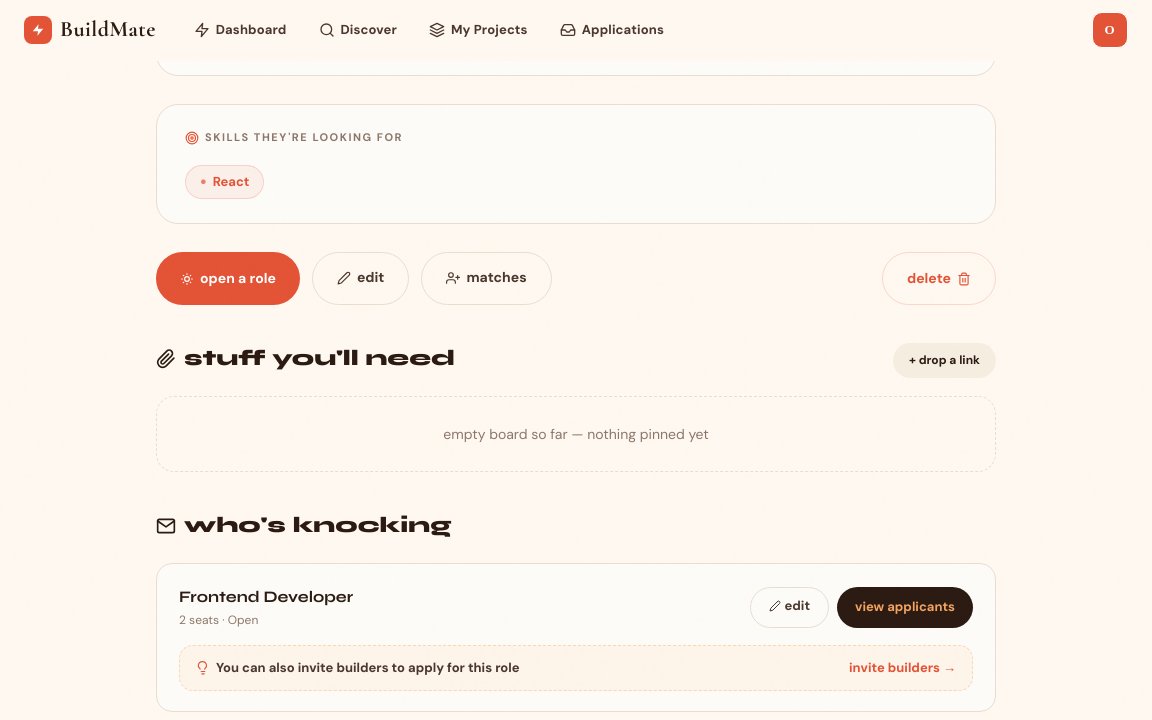
Resource Board › adds resource successfully
(page scrolled)
Click the button "+ drop a link" at [944, 360], box [893, 343, 996, 378]
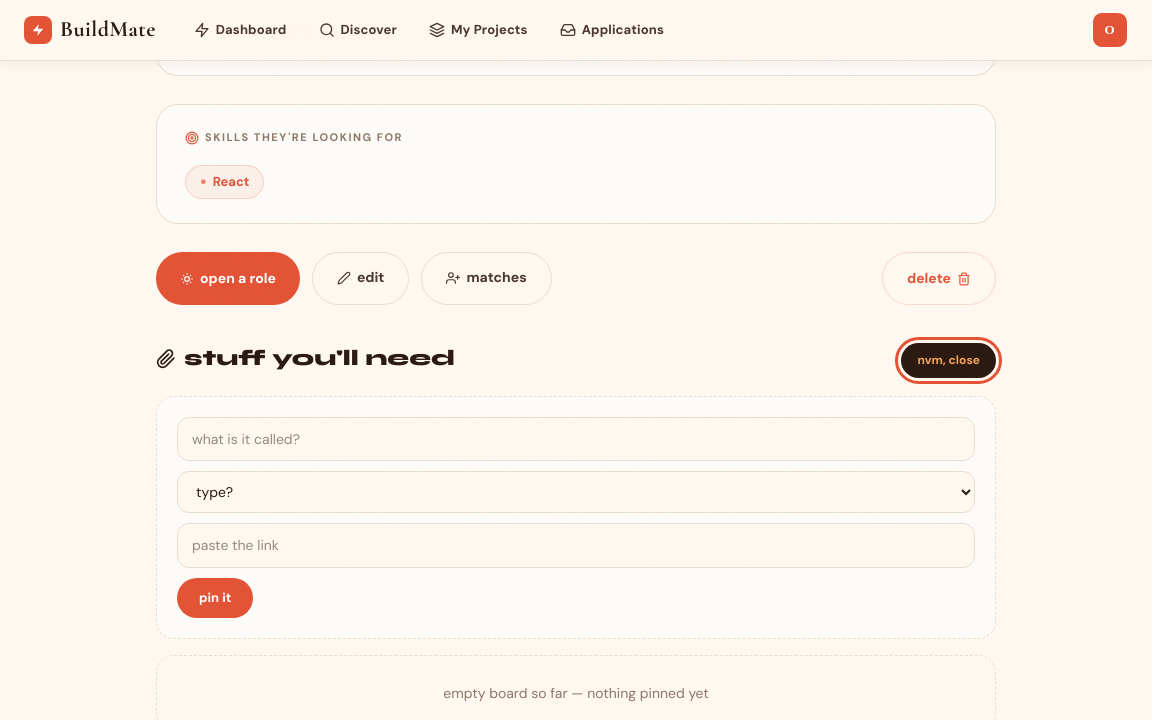
Type "API Docs" into the field with placeholder "what is it called?" at [576, 439], box [177, 417, 975, 461]
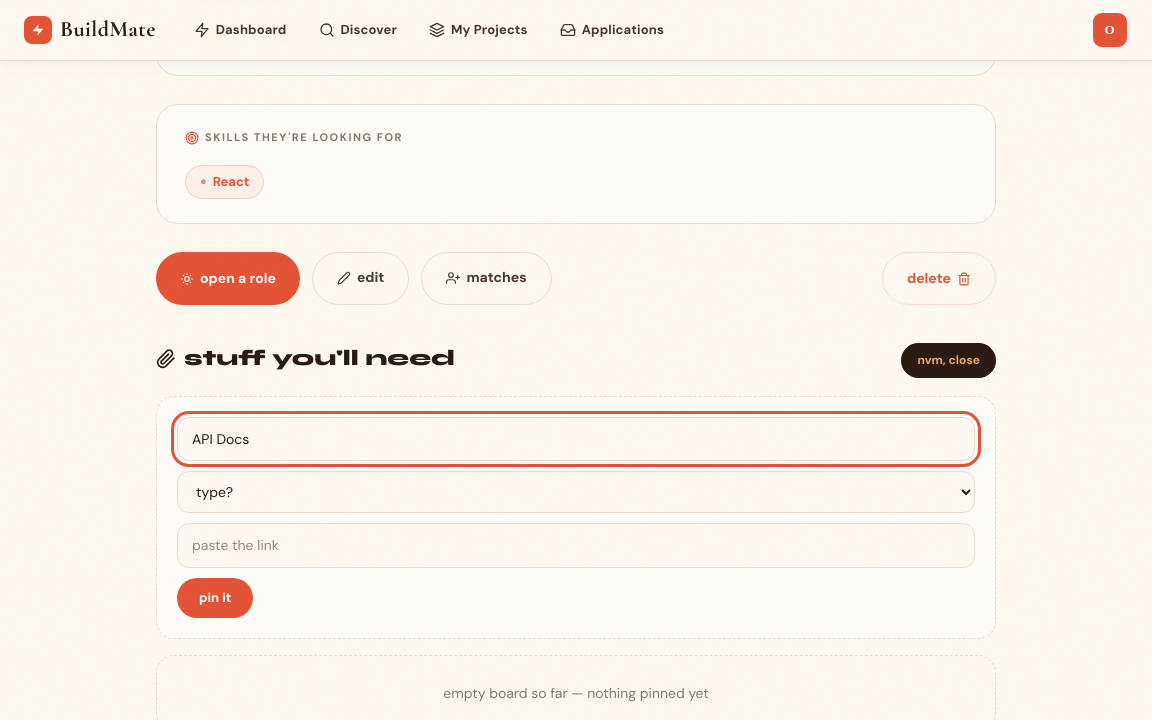
Select "Notion" in the dropdown at [576, 492], box [177, 471, 975, 513]
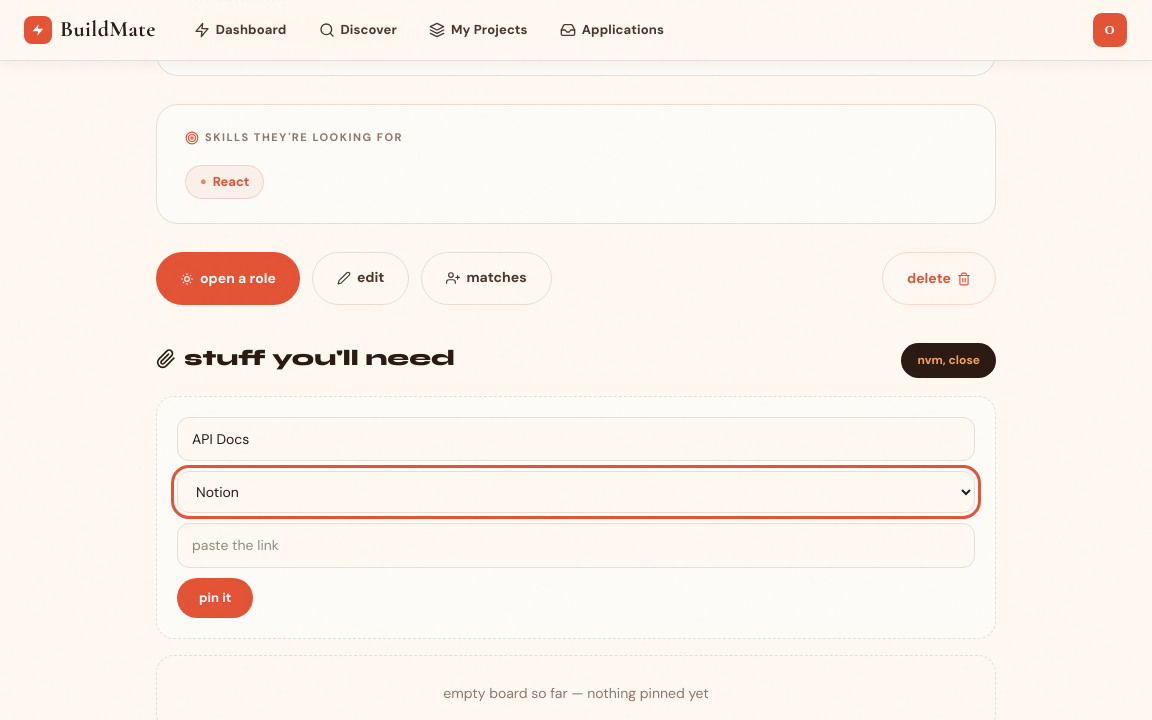
Type "https://notion.so/test" into the field with placeholder "paste the link" at [576, 545], box [177, 523, 975, 568]
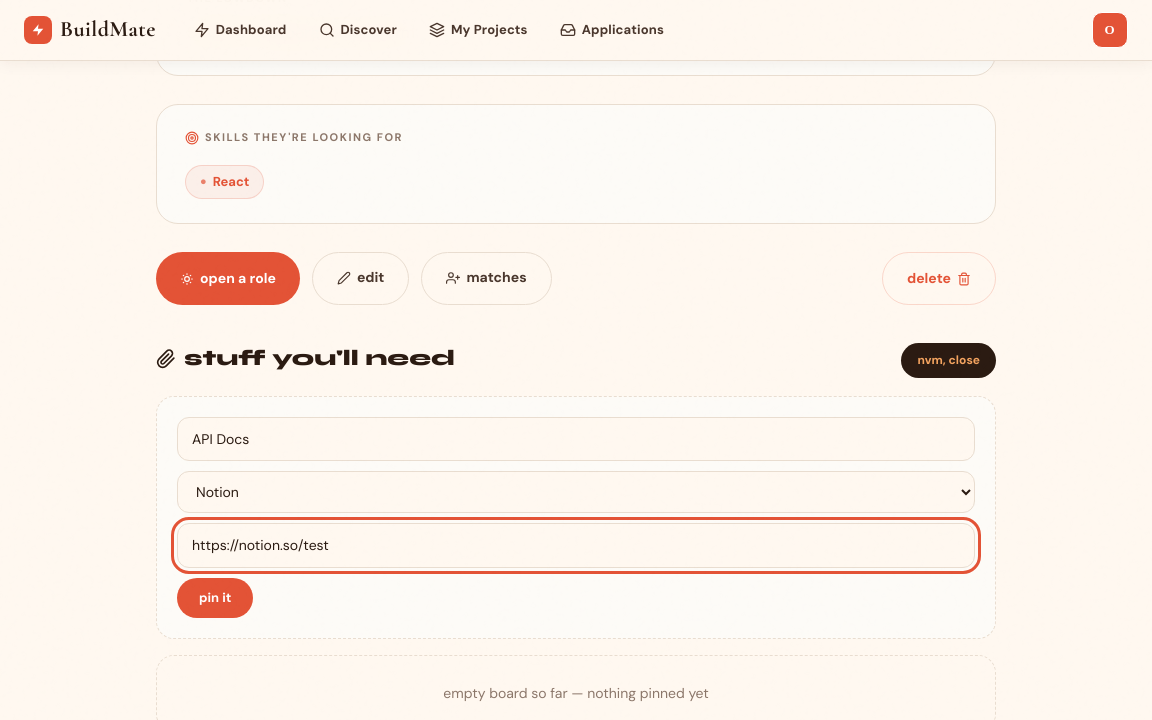
Click the button "pin it" at [215, 598], box [177, 578, 253, 618]
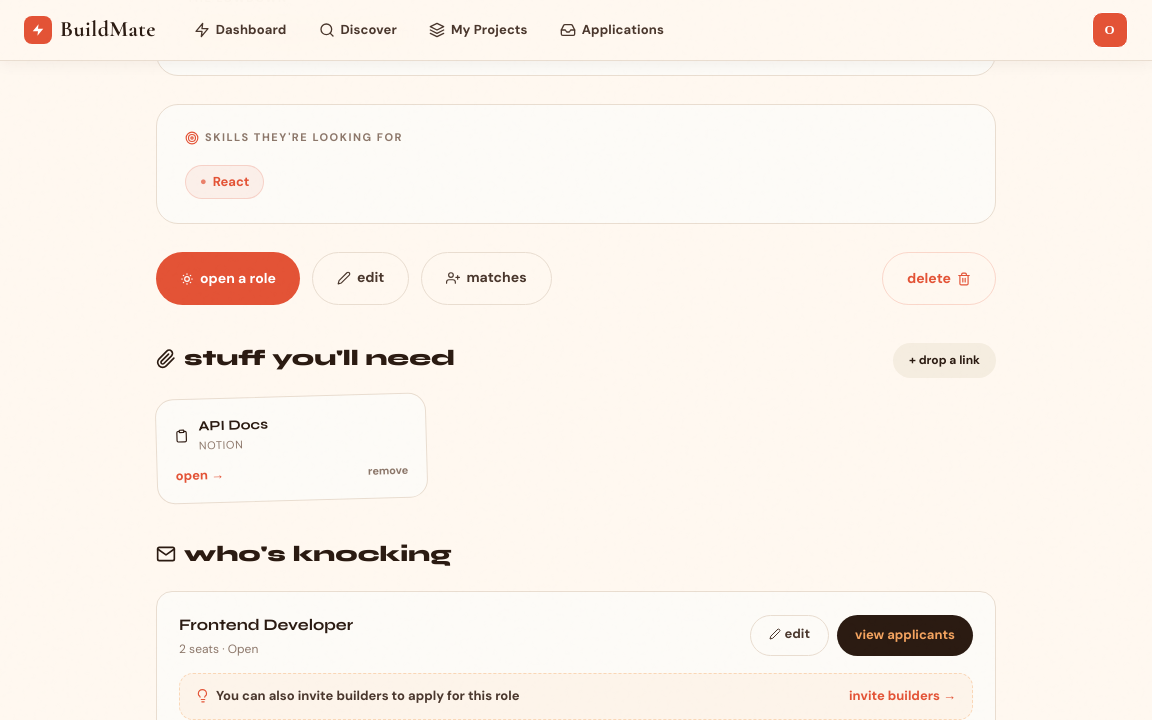
Expected: the text "API Docs" is shown, [198, 413, 268, 438]
